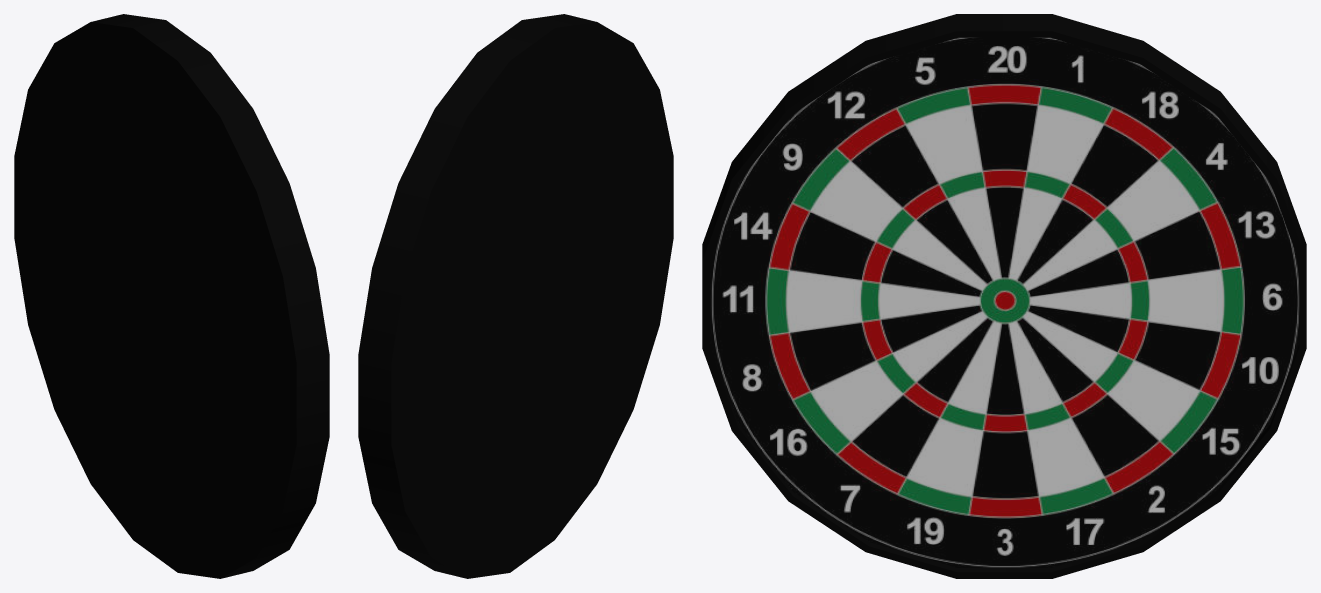
Rendered from darts.glb.
3 views of the same model, side by side, from view 1: azimuth 30°, elevation 25°; view 2: azimuth 150°, elevation 25°; view 3: azimuth 270°, elevation 25° (orthographic). The views are drawn at different scales.
Parts seen in each view (by area): view 1: darts; view 2: darts; view 3: darts.
Boxes of the visible parts, x1=… form: darts: x1=14, y1=14, x2=329, y2=578; darts: x1=358, y1=14, x2=673, y2=578; darts: x1=702, y1=14, x2=1306, y2=578.
Bounding box in the file's own units: 0.03 × 0.4445 × 0.4445.
2 materials, 1 textured.
